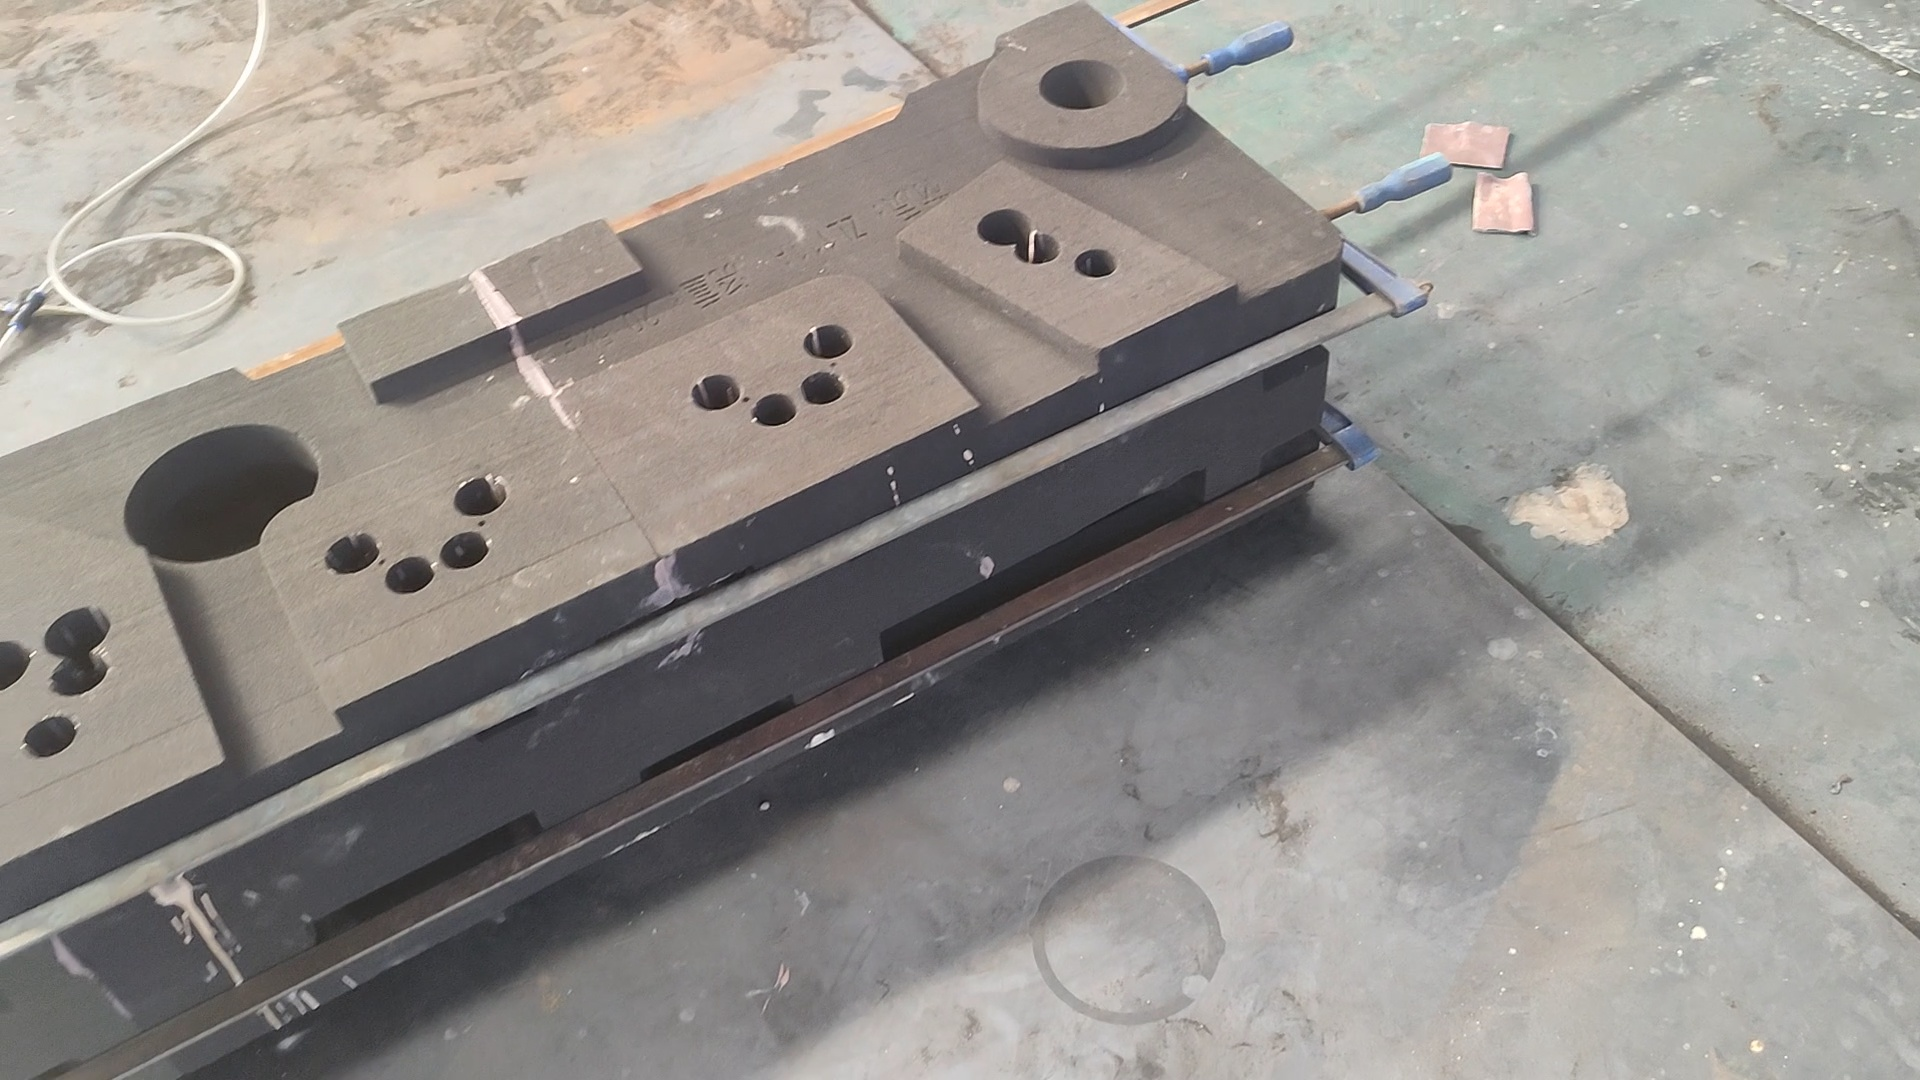pouring hole: (1040, 59, 1125, 109)
